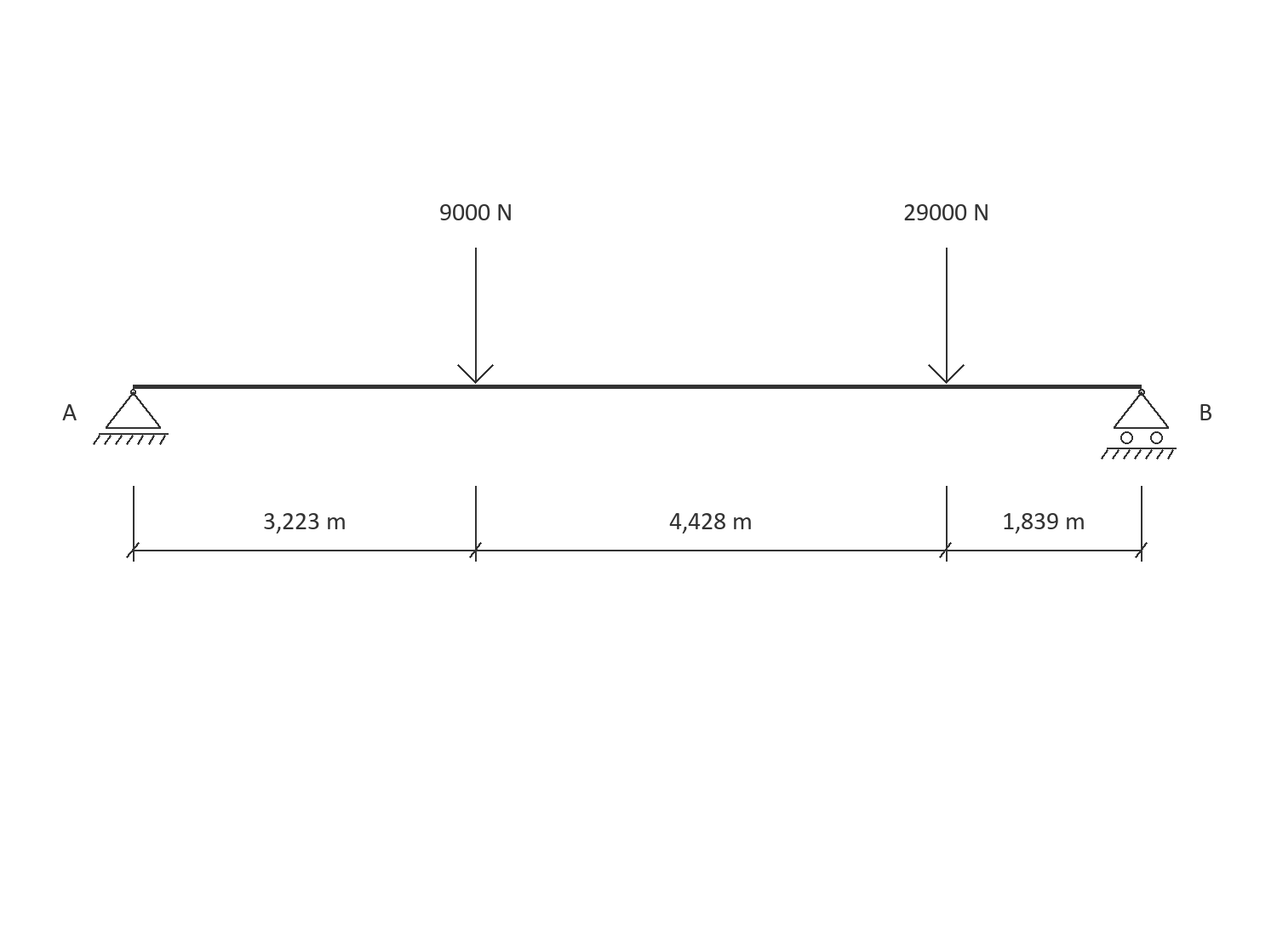pin_support: (93, 389, 169, 445)
point_load: (457, 248, 494, 384), (928, 248, 965, 384)
roller_support: (1101, 389, 1177, 459)
